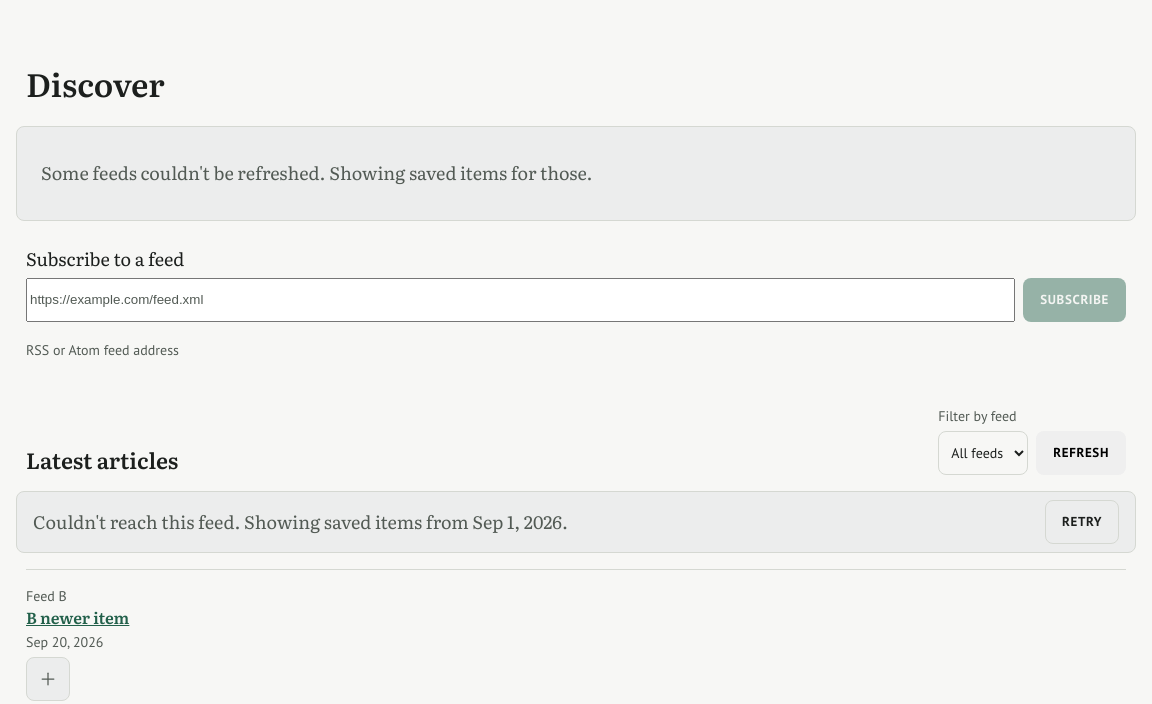
DiscoverView — refresh moments (issue #123) › Retry re-fetches only the failed feed and the notice clears on success
Expected: the heading "Latest articles" is shown, [26,446,178,475]
Click the button with aria-label "Retry Feed A": point(1082, 522) [1045,500,1119,544]
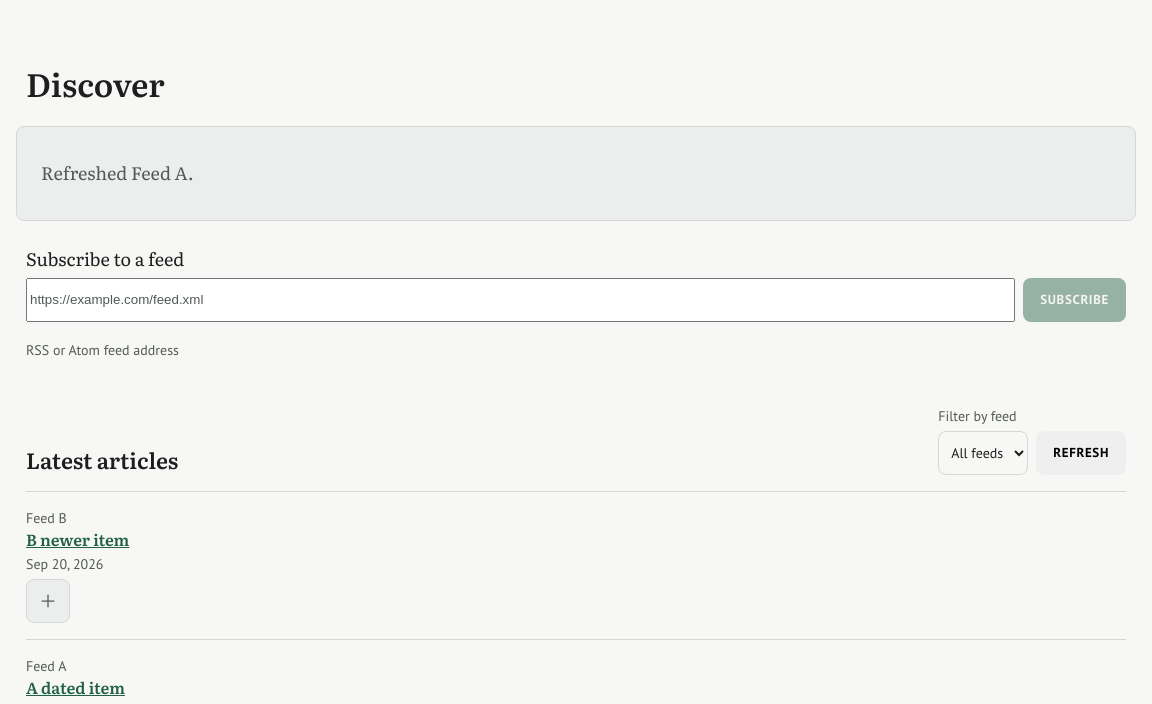
Expected: the link "A dated item" is shown, [26,675,125,699]
Expected: the text "Refreshed Feed A." is shown, [41,159,194,186]
